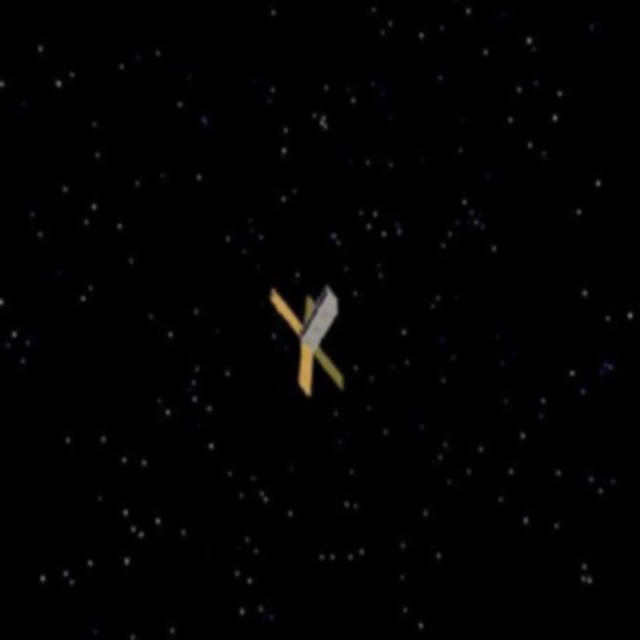satellite: (259, 272, 357, 400)
